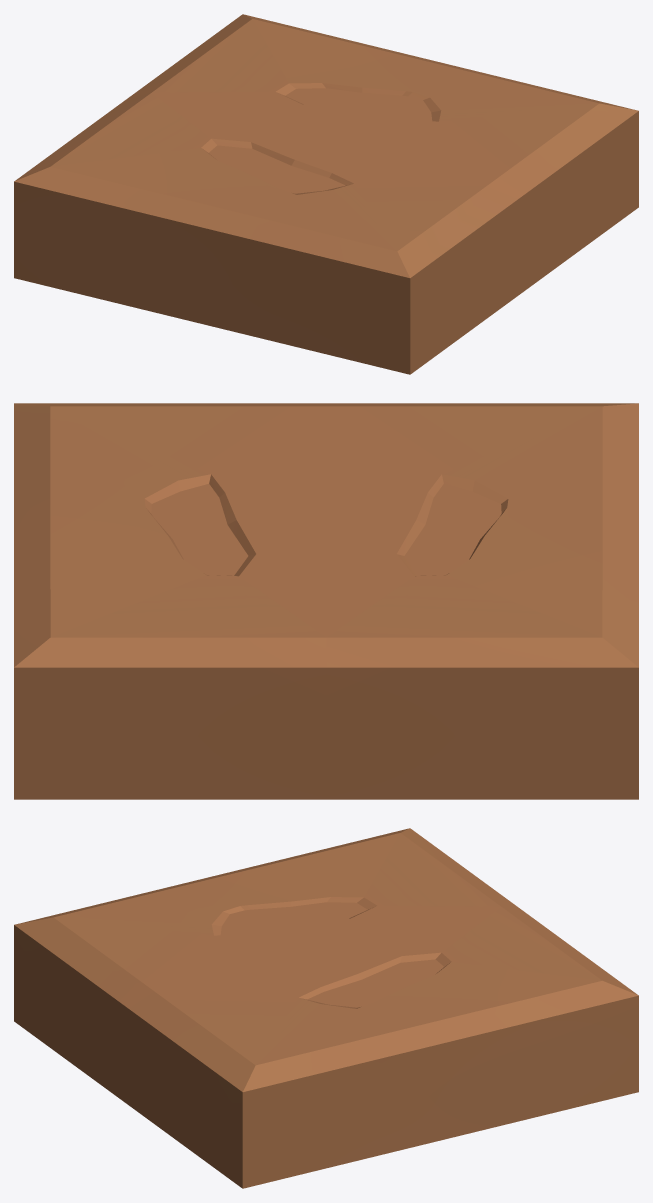
Rendered from lvl1_P_switch2.glb.
3 renders of one model, top to bottom at view 1: azimuth 30°, elevation 25°; view 2: azimuth 150°, elevation 25°; view 3: azimuth 270°, elevation 25°, orthographic. The views are drawn at different scales.
Visible parts, largest first — view 1: lvl1_p_switch2; view 2: lvl1_p_switch2; view 3: lvl1_p_switch2.
Boxes of the visible parts, bbox=[...] form: lvl1_p_switch2: bbox=[14, 14, 638, 374]; lvl1_p_switch2: bbox=[14, 403, 638, 799]; lvl1_p_switch2: bbox=[14, 828, 638, 1188].
Size of the model in its own units: 1.19 by 0.2256 by 1.19.
1 material, 1 textured.
